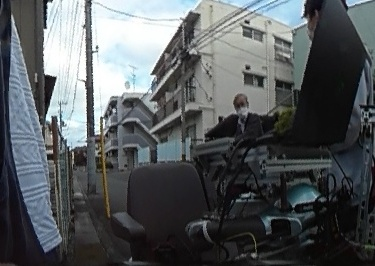person: (229, 90, 265, 133)
